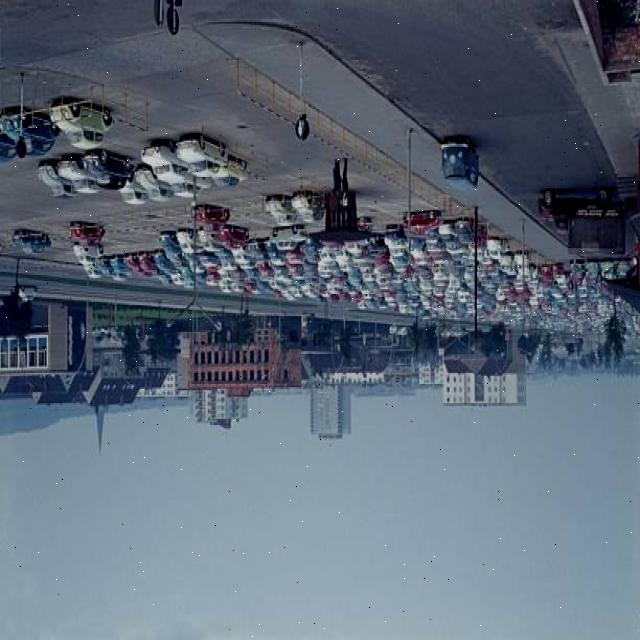car: (49, 99, 112, 146), (5, 112, 52, 156), (88, 152, 132, 198), (145, 143, 185, 188), (56, 160, 101, 198), (180, 138, 224, 176), (36, 164, 76, 201), (135, 172, 171, 202)
